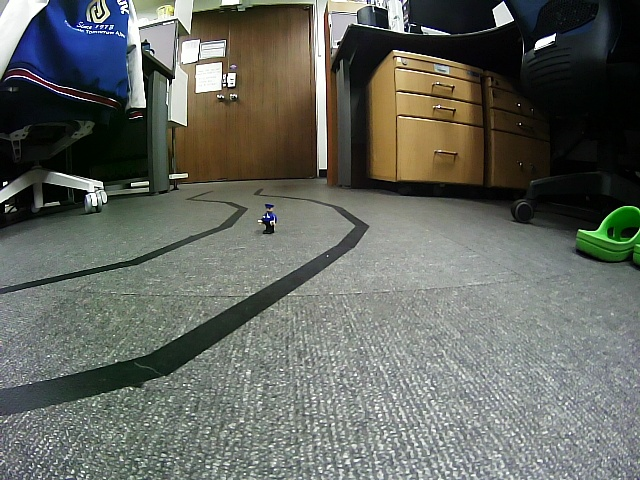person: (258, 203, 278, 234)
